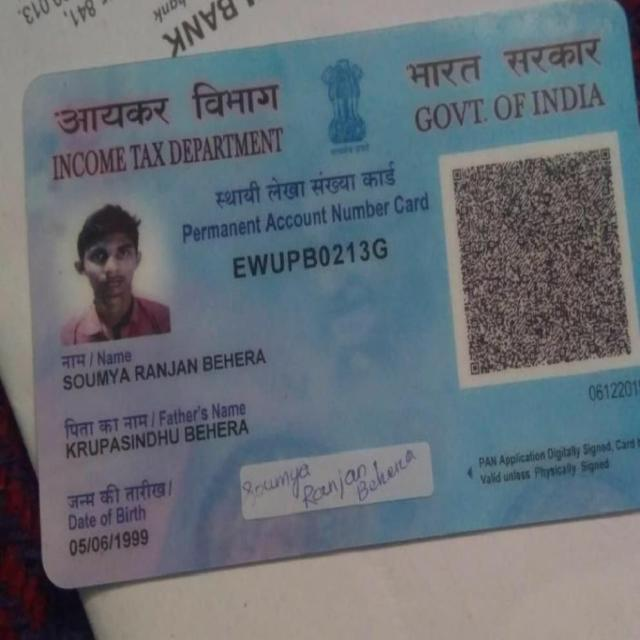pan_card: (22, 0, 640, 587)
